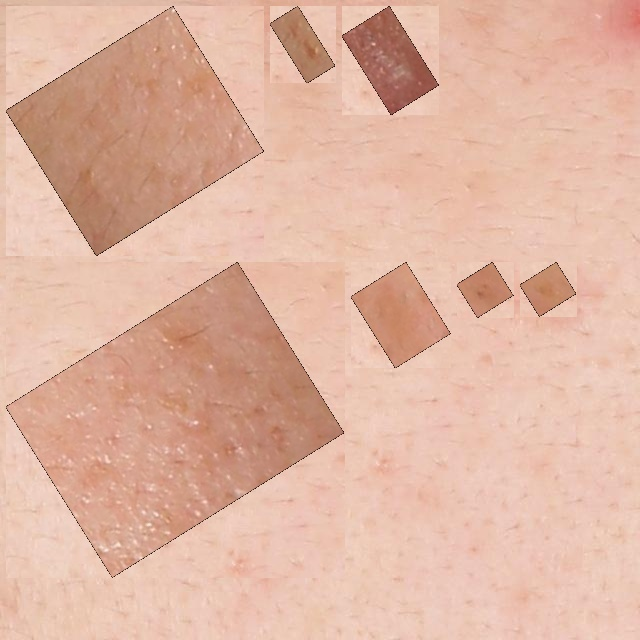melasma: (17, 273, 333, 566), (17, 17, 253, 244), (362, 273, 440, 357), (281, 17, 324, 72), (468, 273, 502, 306), (531, 273, 565, 305)
pustule: (353, 17, 428, 104)
